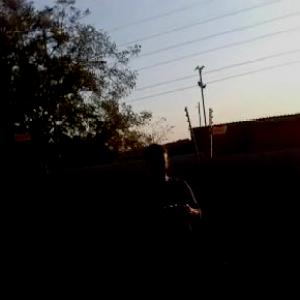follow: (129, 140, 209, 299)
